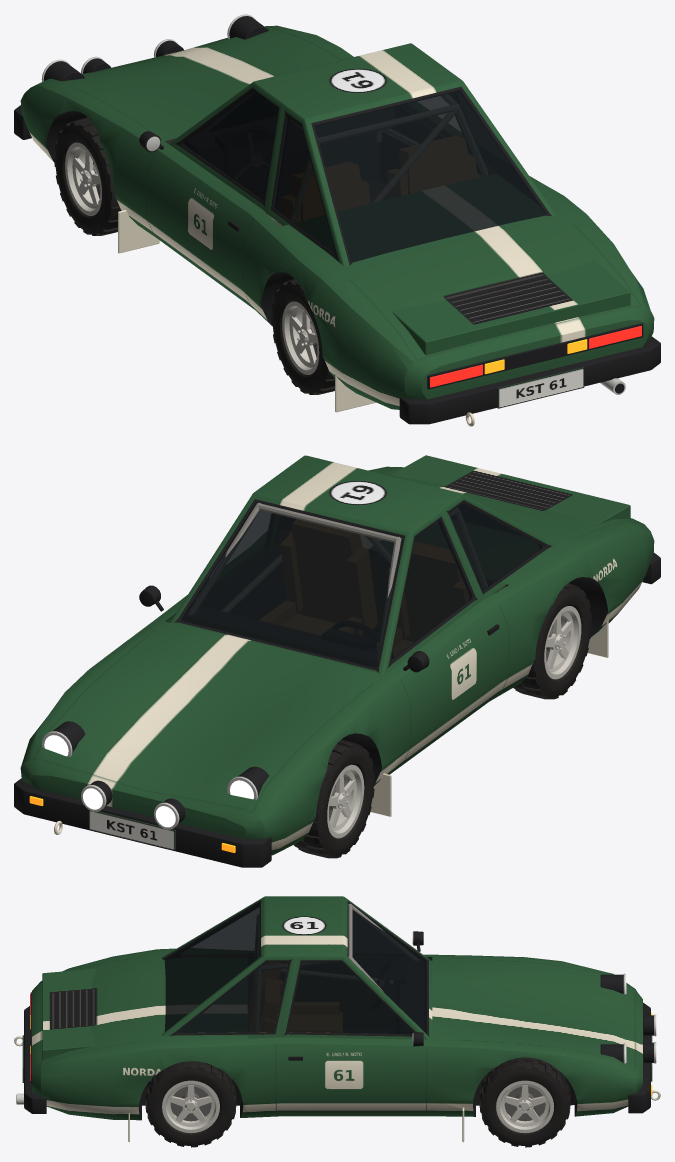
Rendered from CAR-008_Export.fbx.
3 renders of one model, top to bottom at view 1: azimuth 30°, elevation 25°; view 2: azimuth 150°, elevation 25°; view 3: azimuth 270°, elevation 25°, orthographic. The views are drawn at different scales.
Visible parts, largest first — view 1: CAR-008_Body, CAR-008_Glass, CAR-008_Spoiler, CAR-008_Lights, CAR-008_Bumper_Rear, CAR-008_Wheel_FL_Tire, CAR-008_Wheel_RL_Tire, CAR-008_Trim, CAR-008_Wheel_RL_Rim, CAR-008_Wheel_FL_Rim, CAR-008_MudFlaps; view 2: CAR-008_Body, CAR-008_Glass, CAR-008_Spoiler, CAR-008_Bumper_Front, CAR-008_Wheel_FL_Tire, CAR-008_Lights, CAR-008_Wheel_RL_Tire, CAR-008_Wheel_RL_Rim, CAR-008_Trim, CAR-008_Wheel_FL_Rim, CAR-008_Interior, CAR-008_MudFlaps (+1 smaller); view 3: CAR-008_Body, CAR-008_Glass, CAR-008_Wheel_FR_Tire, CAR-008_Spoiler, CAR-008_Wheel_RR_Tire, CAR-008_Wheel_FR_Rim, CAR-008_Wheel_RR_Rim, CAR-008_Lights, CAR-008_Bumper_Rear, CAR-008_Bumper_Front, CAR-008_Interior, CAR-008_Trim.
Boxes of the visible parts, box(x1,y1,x2,y2) form: CAR-008_Body: box(20, 25, 654, 409); CAR-008_Glass: box(184, 90, 546, 262); CAR-008_Spoiler: box(391, 260, 630, 355); CAR-008_Lights: box(41, 14, 643, 389); CAR-008_Bumper_Rear: box(399, 336, 660, 424); CAR-008_Wheel_FL_Tire: box(54, 117, 121, 235); CAR-008_Wheel_RL_Tire: box(271, 279, 334, 394); CAR-008_Trim: box(228, 220, 625, 426); CAR-008_Wheel_RL_Rim: box(282, 301, 319, 374); CAR-008_Wheel_FL_Rim: box(65, 142, 101, 215); CAR-008_MudFlaps: box(118, 210, 375, 412); CAR-008_Body: box(20, 455, 654, 855); CAR-008_Glass: box(182, 503, 542, 667); CAR-008_Spoiler: box(391, 455, 630, 524); CAR-008_Bumper_Front: box(14, 778, 271, 867); CAR-008_Wheel_FL_Tire: box(294, 739, 374, 858); CAR-008_Lights: box(29, 721, 268, 852); CAR-008_Wheel_RL_Tire: box(513, 583, 591, 699); CAR-008_Wheel_RL_Rim: box(544, 606, 581, 679); CAR-008_Trim: box(54, 624, 499, 850); CAR-008_Wheel_FL_Rim: box(327, 764, 364, 838); CAR-008_Interior: box(183, 502, 497, 616); CAR-008_MudFlaps: box(370, 620, 608, 816); CAR-008_Body: box(32, 896, 642, 1120); CAR-008_Glass: box(164, 903, 426, 1034); CAR-008_Wheel_FR_Tire: box(479, 1057, 570, 1147); CAR-008_Spoiler: box(42, 968, 96, 1060); CAR-008_Wheel_RR_Tire: box(145, 1061, 236, 1147); CAR-008_Wheel_FR_Rim: box(496, 1080, 553, 1133); CAR-008_Wheel_RR_Rim: box(162, 1080, 219, 1133); CAR-008_Lights: box(30, 973, 656, 1094); CAR-008_Bumper_Rear: box(24, 1006, 46, 1113); CAR-008_Bumper_Front: box(628, 1002, 650, 1113); CAR-008_Interior: box(259, 903, 406, 1034); CAR-008_Trim: box(14, 1035, 660, 1104).
Size of the model in its own units: 1.72 by 1.3 by 4.4.
17 materials, 2 textured.
